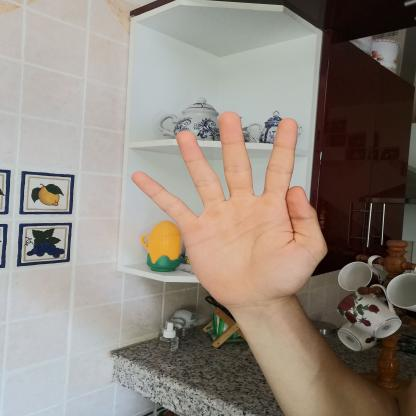SHEEN: (118, 100, 338, 317)
